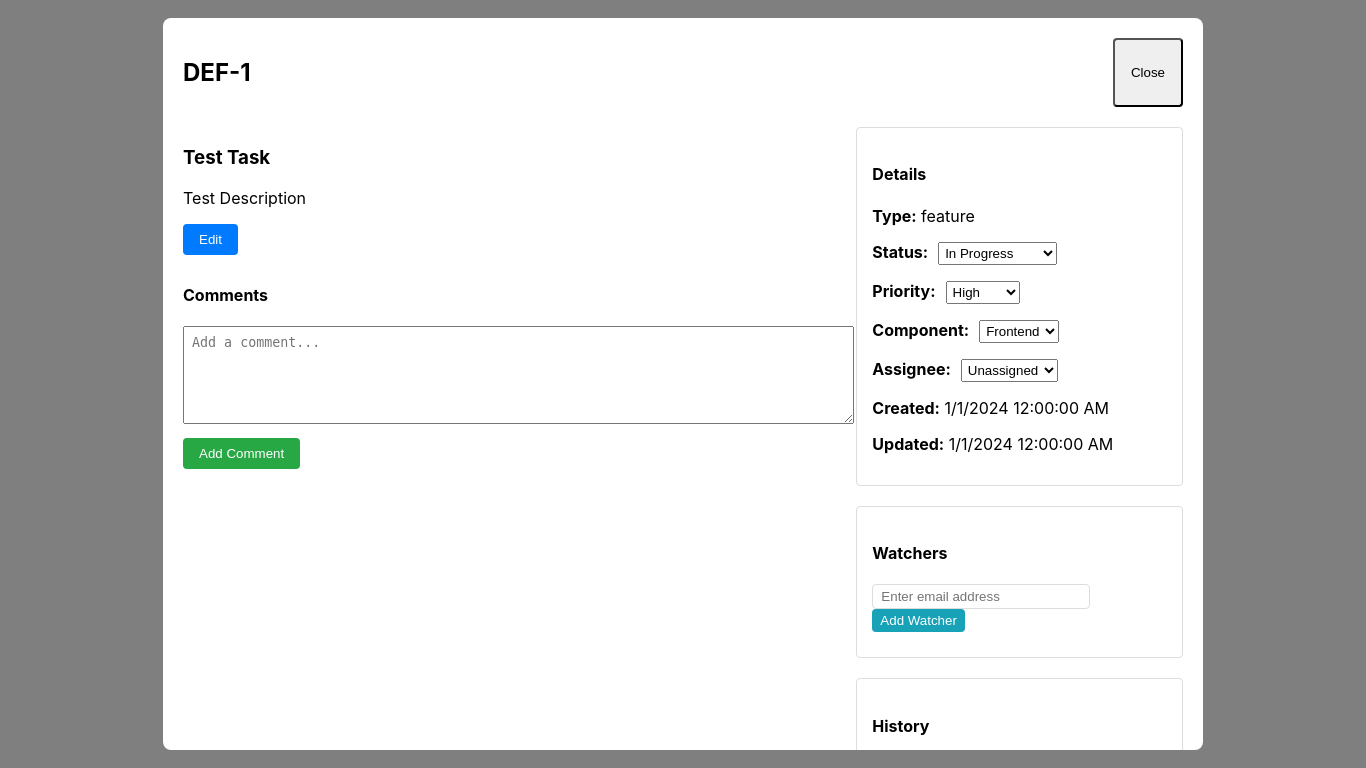
TaskDetail Component › cancels edit mode
This screenshot has width=1366, height=768.
Click the button "Edit": (210, 239) [183, 224, 238, 255]
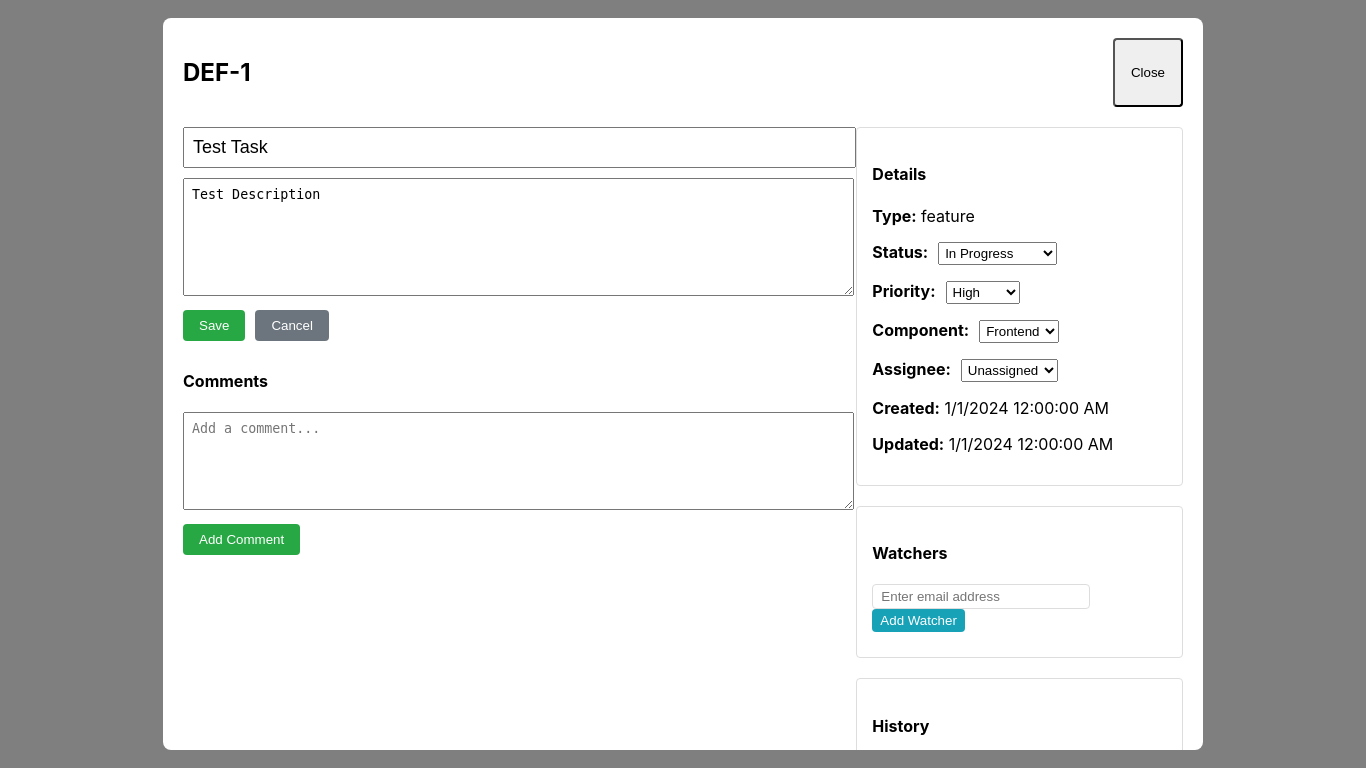
Click the button "Cancel": (292, 326) [255, 310, 329, 341]
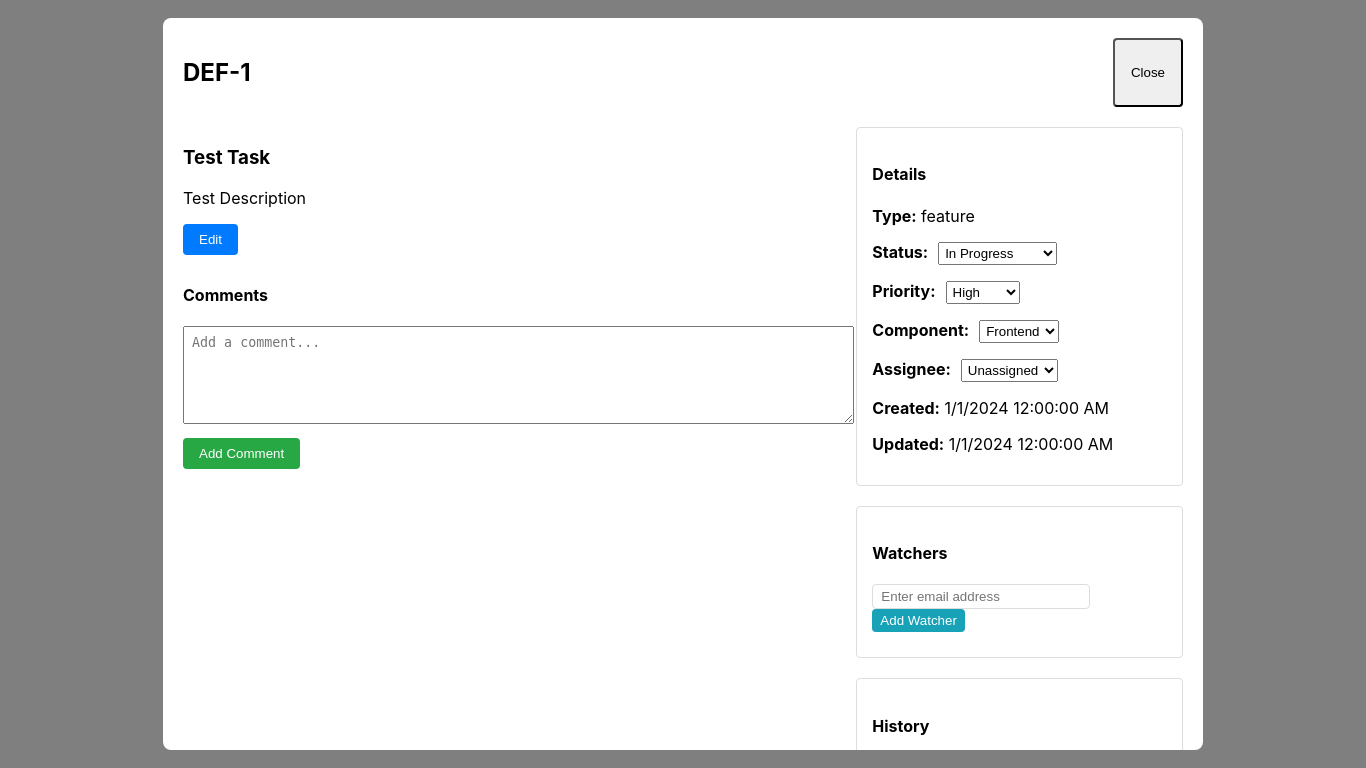
Expected: the heading "Test Task" is shown, [183, 146, 270, 169]
